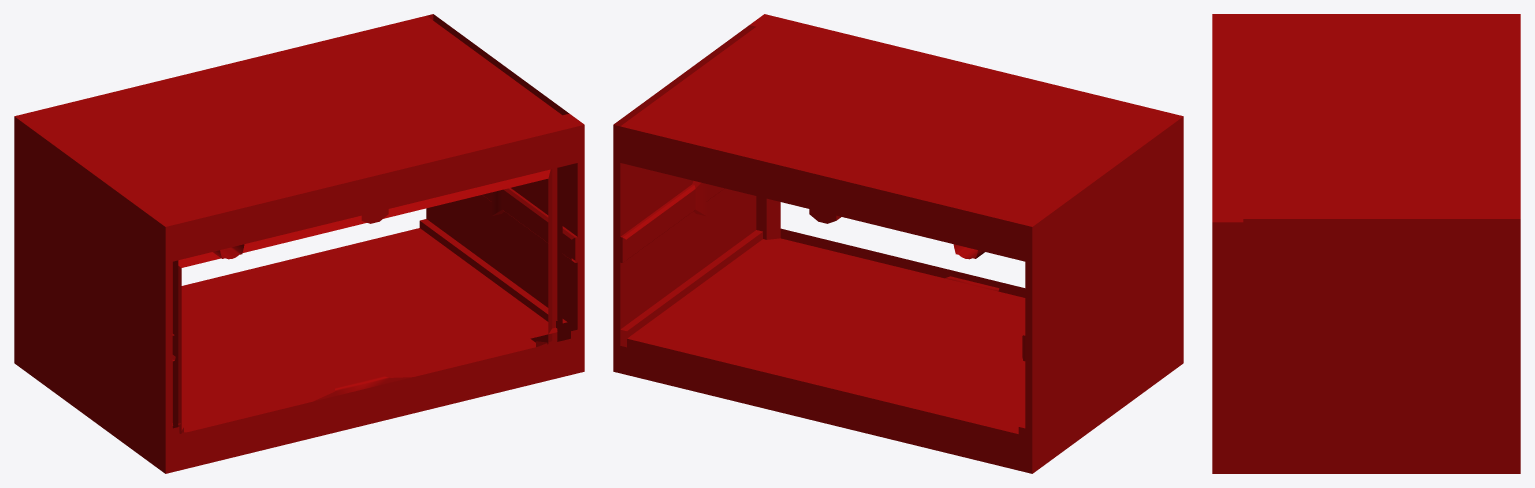
The model's file is PasilloPuertaCorto.fbx.
3 renders of one model, left to right at view 1: azimuth 30°, elevation 25°; view 2: azimuth 150°, elevation 25°; view 3: azimuth 270°, elevation 25°, orthographic.
Visible parts, largest first — view 1: pPlane2; view 2: pPlane2; view 3: pPlane2.
Boxes of the visible parts, x1,y1,x2,y2 form: pPlane2: [14, 14, 584, 473]; pPlane2: [613, 14, 1183, 473]; pPlane2: [1212, 14, 1520, 473].
Size of the model in its own units: 1600 by 901 by 1000.
